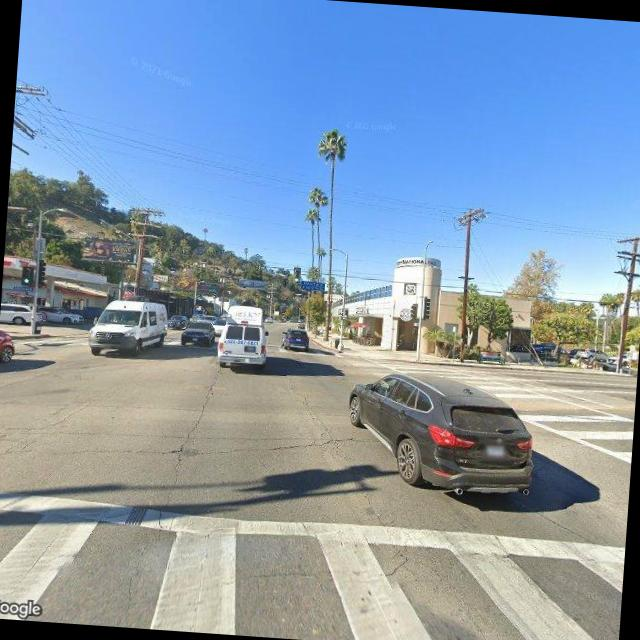crack: (50, 410, 368, 480), (160, 376, 210, 506), (0, 397, 77, 464)
